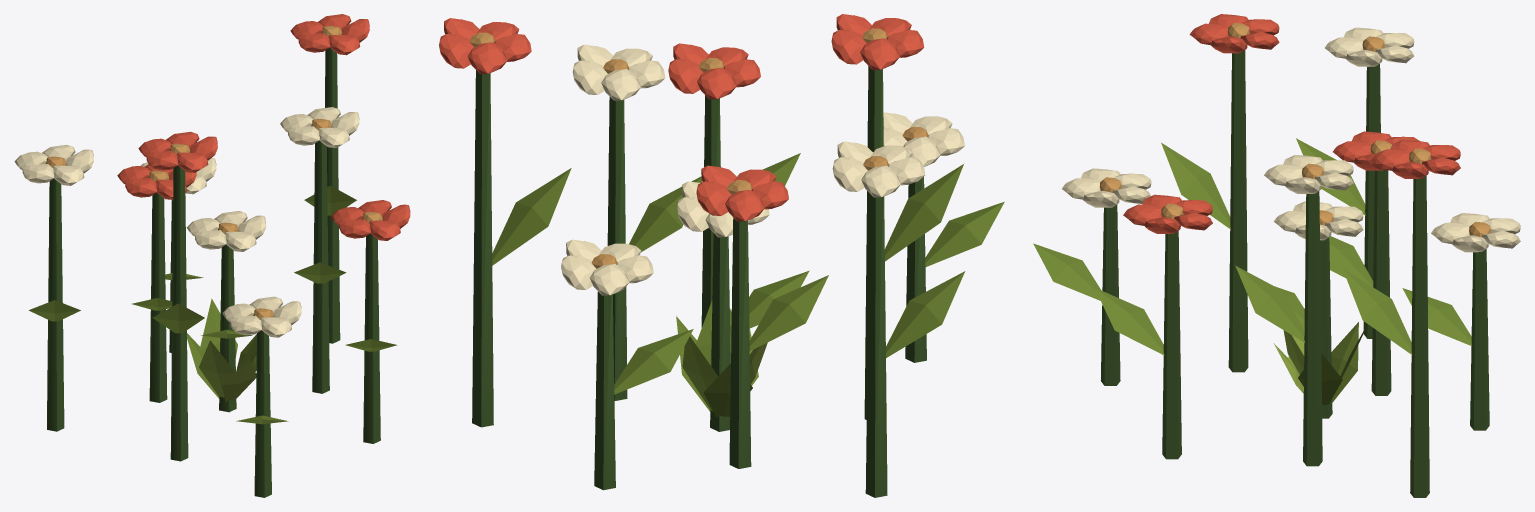
The model's file is 99_meadow_flower_clump.fbx.
The picture shows the model from 3 angles, left to right: view 1: azimuth 30°, elevation 25°; view 2: azimuth 150°, elevation 25°; view 3: azimuth 270°, elevation 25°; orthographic projection. The views are drawn at different scales.
Visible parts, largest first — view 1: 99_meadow_flower_clump; view 2: 99_meadow_flower_clump; view 3: 99_meadow_flower_clump.
Boxes of the visible parts, bbox=[...] form: 99_meadow_flower_clump: bbox=[14, 14, 410, 497]; 99_meadow_flower_clump: bbox=[439, 14, 1004, 497]; 99_meadow_flower_clump: bbox=[1033, 14, 1520, 497].
Size of the model in its own units: 0.7268 by 0.5918 by 0.754.
1 material, 1 textured.
